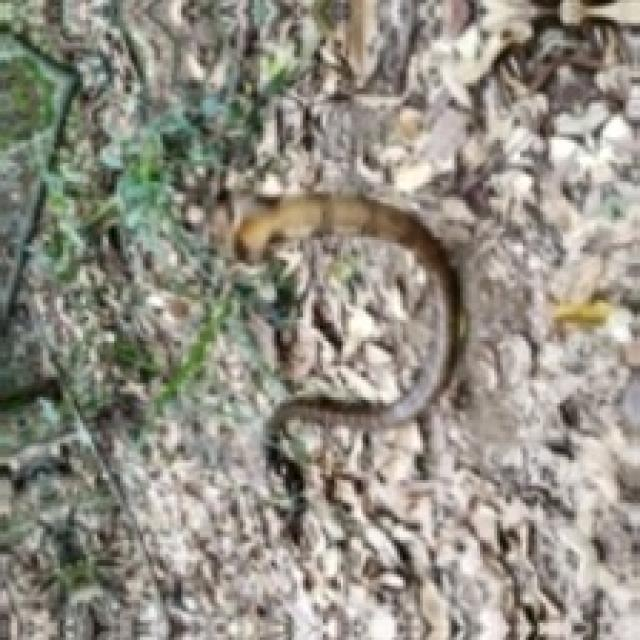king cobra: (231, 0, 637, 637), (234, 194, 457, 426)
